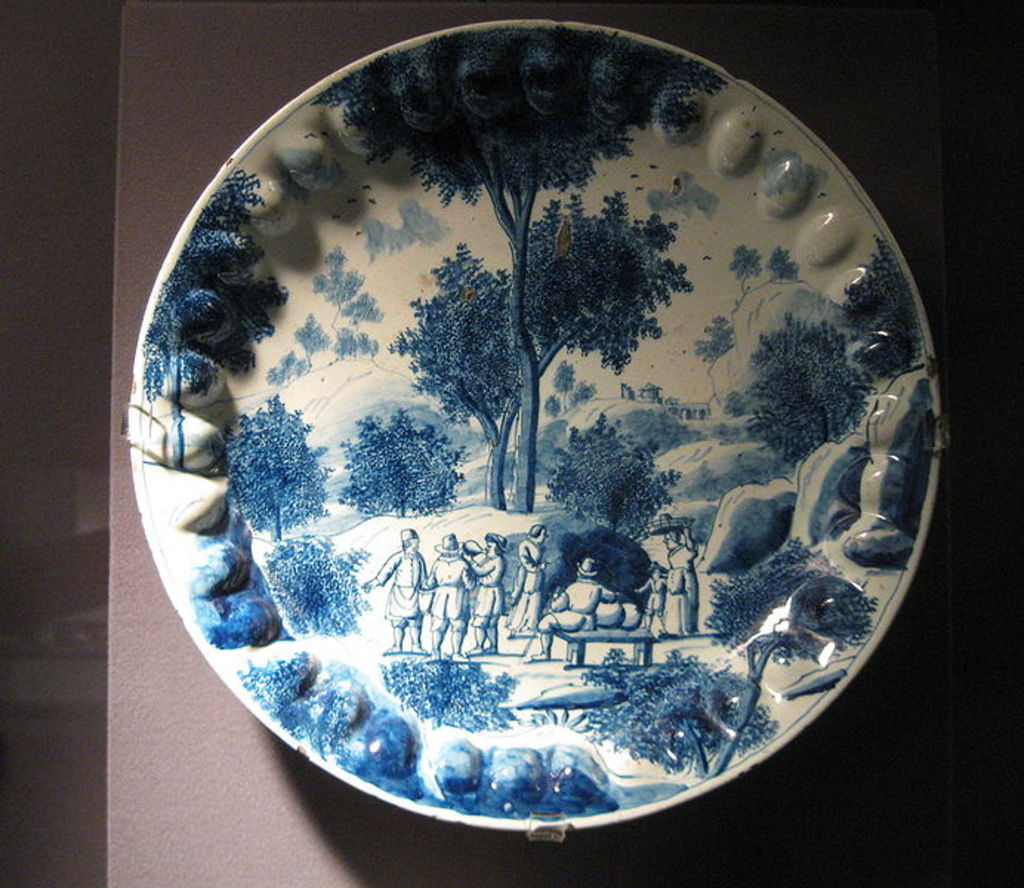plate: (133, 29, 960, 834)
